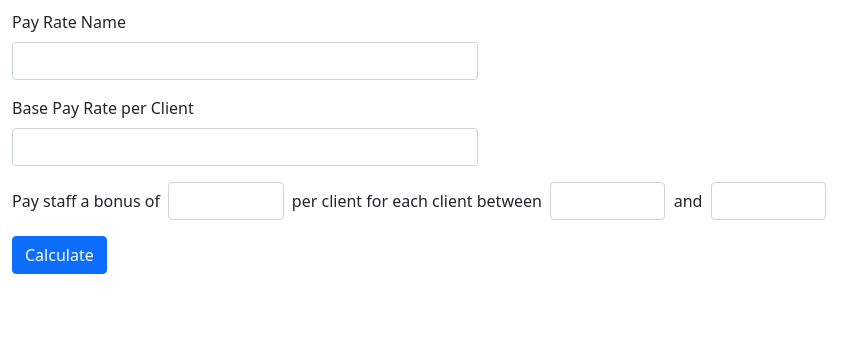
CalculatorForm › payRateName field validations › renders error message when field value contains less than 3 characters
In the field labelled "Pay Rate Name": (245, 61) x1=12 y1=42 x2=478 y2=80, type "AB"
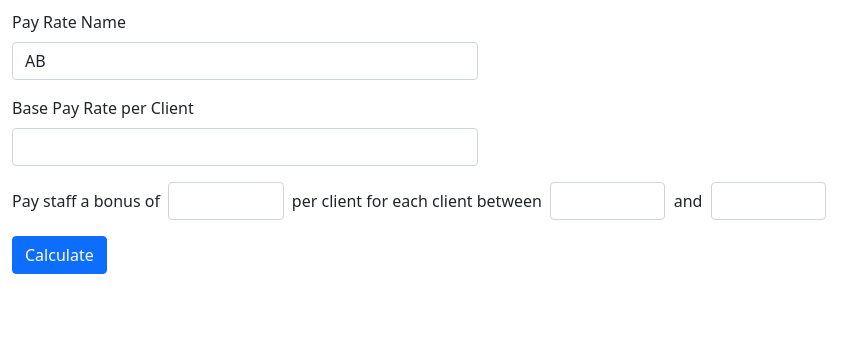
Submit the form from the button, box x1=12 y1=236 x2=107 y2=274
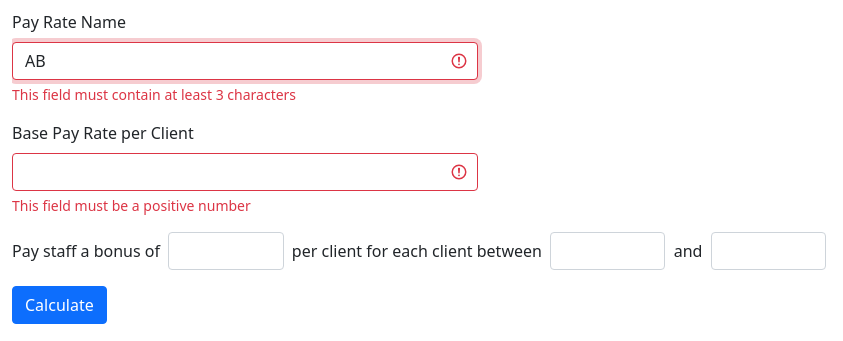
Expected: the text "This field must contain at least 3 characters" is shown, x1=12 y1=85 x2=296 y2=104
